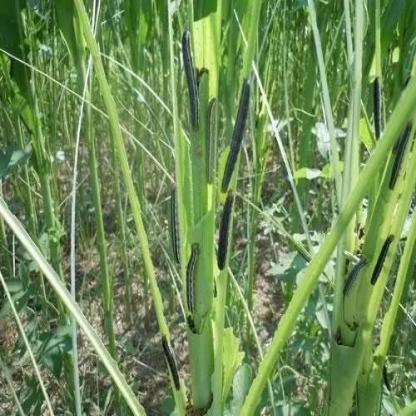armyworm: (220, 77, 252, 193), (181, 27, 205, 136), (182, 242, 207, 334), (217, 187, 238, 272), (390, 120, 412, 193), (205, 95, 220, 189), (168, 185, 184, 266), (160, 335, 182, 392), (342, 255, 369, 301), (372, 233, 394, 287), (372, 75, 385, 144)
